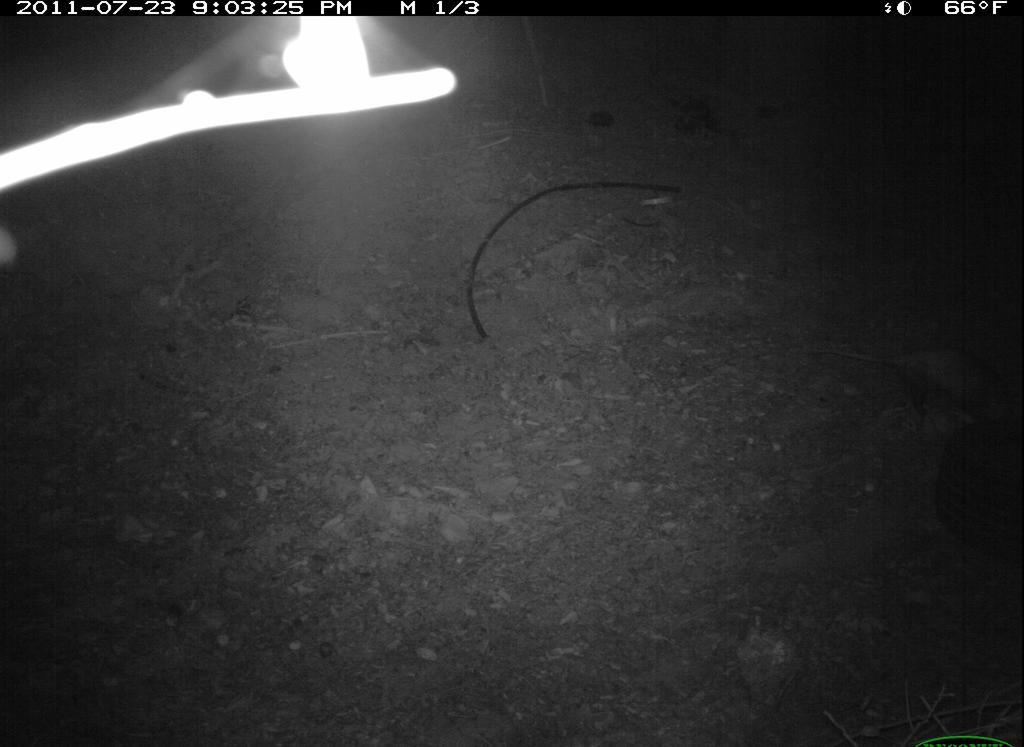opossum: (789, 315, 1023, 460)
